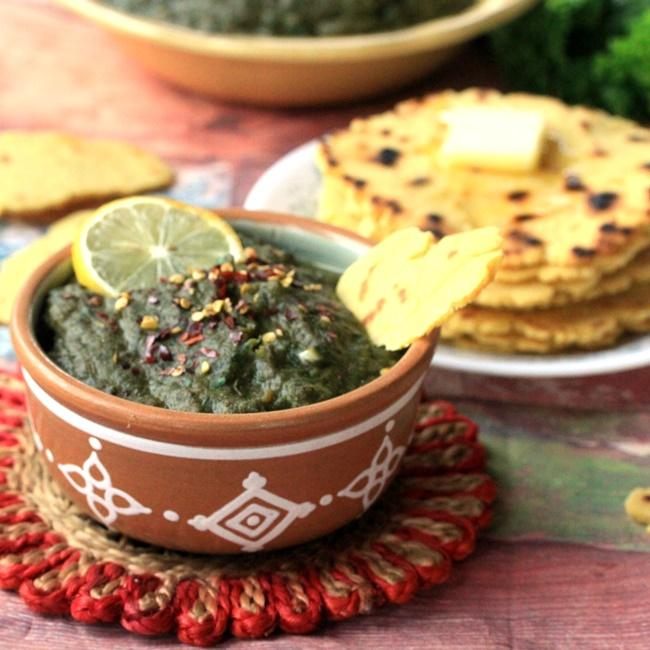saag: (50, 270, 386, 407)
